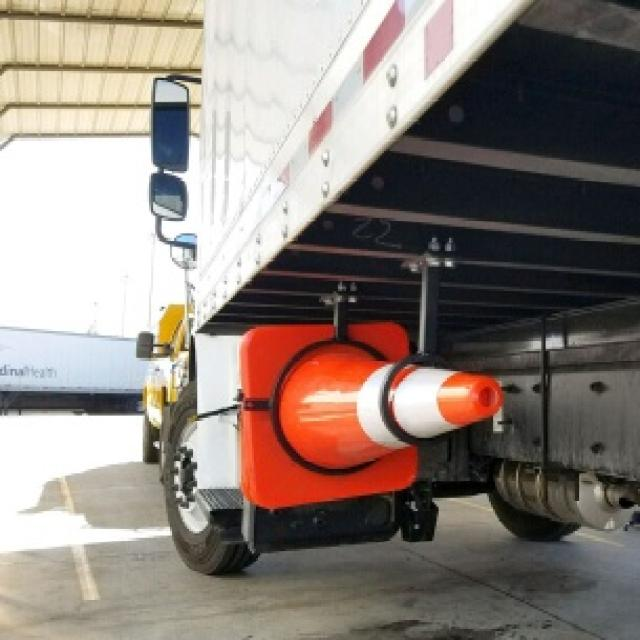cone: (228, 320, 504, 520)
